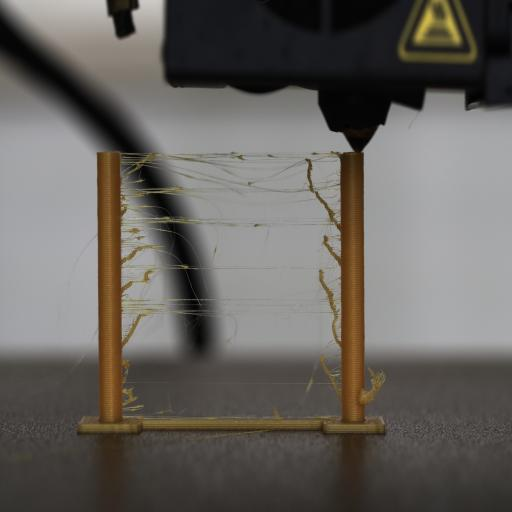stringing: (118, 146, 342, 321)
